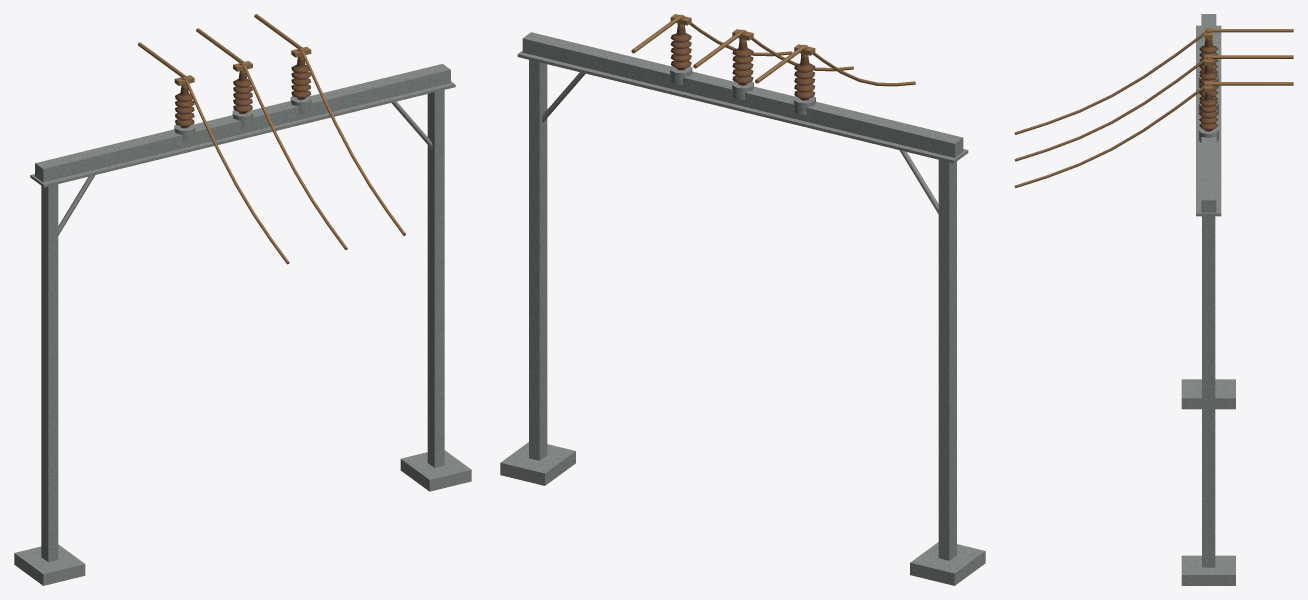
File: SM_Substation_Buswork_LOD2.fbx
The picture shows the model from 3 angles, left to right: view 1: azimuth 30°, elevation 25°; view 2: azimuth 150°, elevation 25°; view 3: azimuth 270°, elevation 25°; orthographic projection. The views are drawn at different scales.
Parts seen in each view (by area): view 1: SM_Substation_Buswork_LOD2; view 2: SM_Substation_Buswork_LOD2; view 3: SM_Substation_Buswork_LOD2.
Part boxes in pixels (box(x1,y1,x2,y2)): SM_Substation_Buswork_LOD2: box(14, 14, 471, 585); SM_Substation_Buswork_LOD2: box(500, 14, 985, 585); SM_Substation_Buswork_LOD2: box(1014, 14, 1293, 585).
Bounding box in the file's own units: 7.65 × 4.61 × 7.88.
